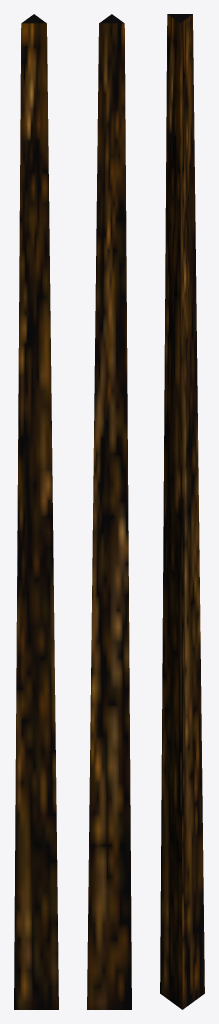
File: Kabel_Lichtmast2_2598.glb
3 views of the same model, side by side, from view 1: azimuth 30°, elevation 25°; view 2: azimuth 150°, elevation 25°; view 3: azimuth 330°, elevation 25° (orthographic).
Visible parts, largest first — view 1: pCylinderShape65; view 2: pCylinderShape65; view 3: pCylinderShape65.
Boxes of the visible parts, x1,y1,x2,y2 form: pCylinderShape65: (14,14,58,1009); pCylinderShape65: (87,14,131,1009); pCylinderShape65: (160,14,204,1009).
Bounding box in the file's own units: 0.0315 × 0.8785 × 0.0364.
1 material, 1 textured.
